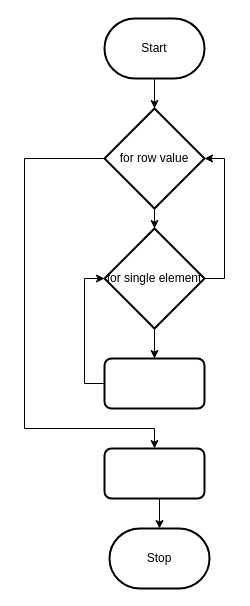
This 250x606 diagram has some shape labels left out. Each missing label, with the box of its shape:
sum += single element: (103, 357, 205, 409)
total = sum / (rows+columns): (103, 447, 205, 499)
